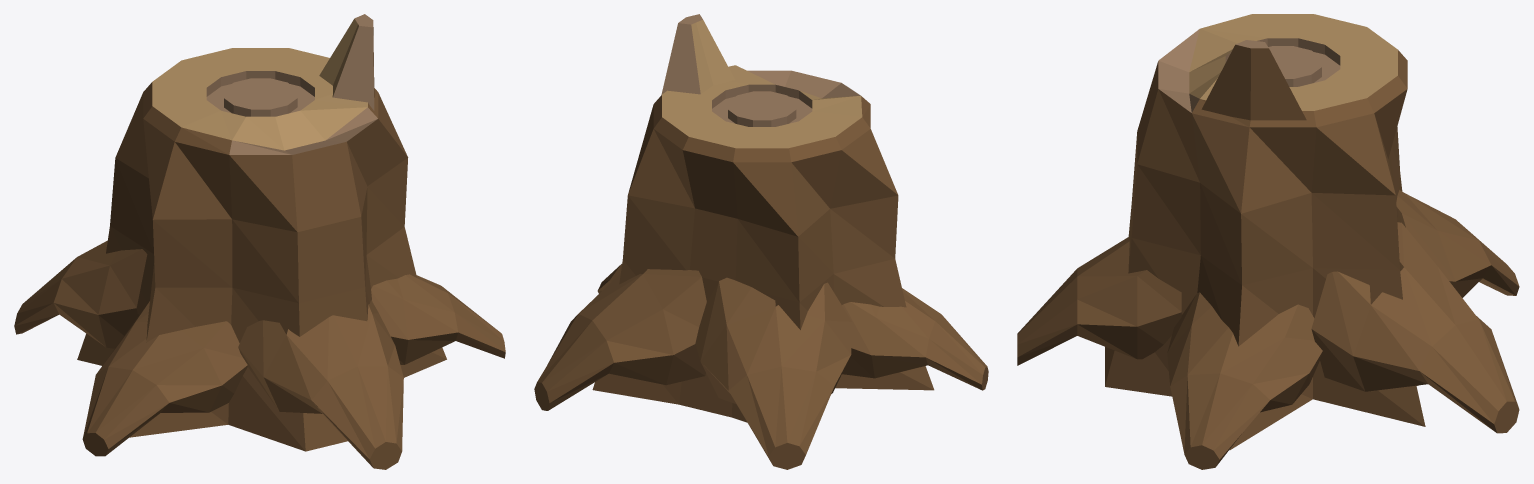
The model's file is log-stump-1d65a5.glb.
3 renders of one model, left to right at view 1: azimuth 30°, elevation 25°; view 2: azimuth 150°, elevation 25°; view 3: azimuth 270°, elevation 25°, orthographic. The views are drawn at different scales.
Visible parts, largest first — view 1: stump-mesh; view 2: stump-mesh; view 3: stump-mesh.
Boxes of the visible parts, x1=… form: stump-mesh: x1=14, y1=14, x2=505, y2=469; stump-mesh: x1=534, y1=14, x2=988, y2=469; stump-mesh: x1=1017, y1=14, x2=1519, y2=469.
Size of the model in its own units: 0.6071 by 0.485 by 0.5983.
